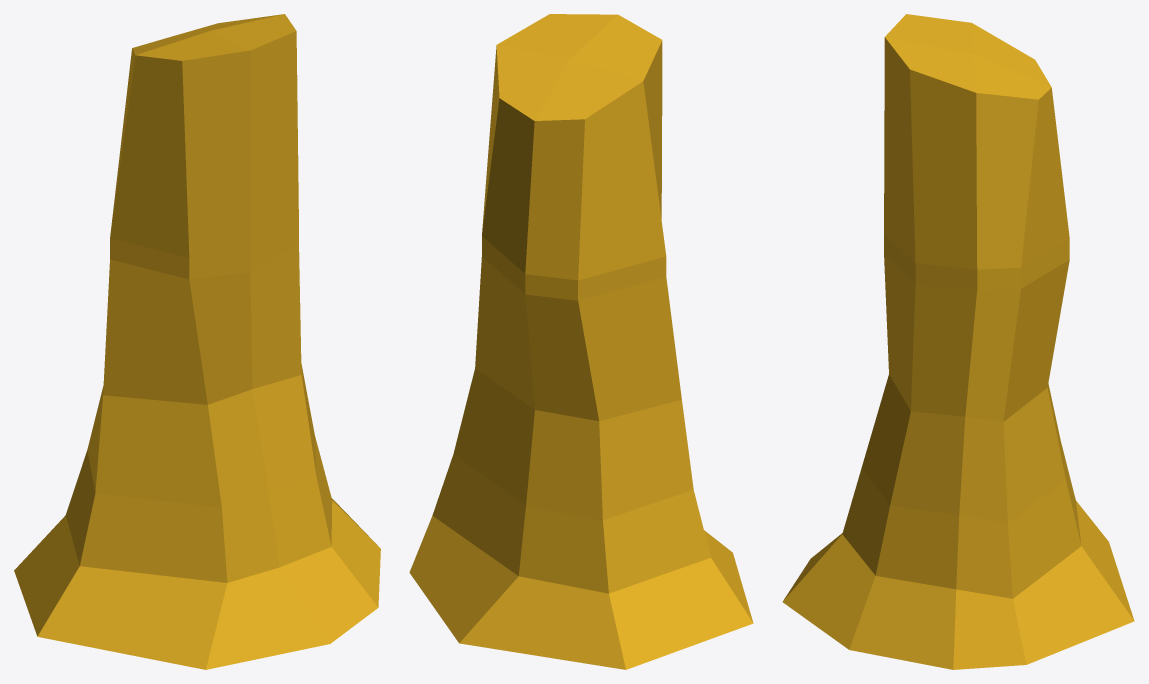
The model's file is rocha_mapa.fbx.
3 views of the same model, side by side, from view 1: azimuth 30°, elevation 25°; view 2: azimuth 150°, elevation 25°; view 3: azimuth 270°, elevation 25° (orthographic). The views are drawn at different scales.
Visible parts, largest first — view 1: Cube; view 2: Cube; view 3: Cube.
Part boxes in pixels (x1=…): Cube: x1=14, y1=14, x2=380, y2=669; Cube: x1=409, y1=14, x2=753, y2=669; Cube: x1=782, y1=14, x2=1134, y2=669.
Size of the model in its own units: 1677 by 2692 by 1520.
